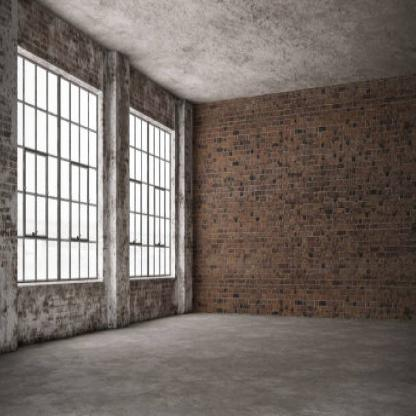Window: (17, 45, 99, 282), (129, 109, 175, 282)
